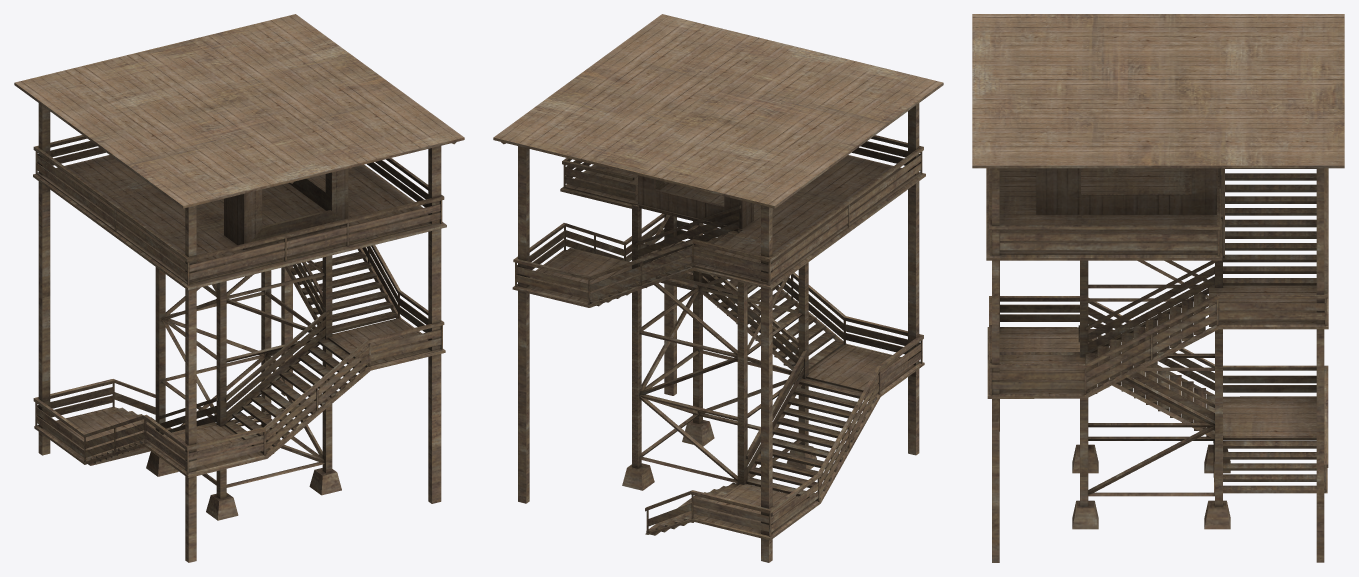
Rendered from watchtower.glb.
3 renders of one model, left to right at view 1: azimuth 30°, elevation 25°; view 2: azimuth 150°, elevation 25°; view 3: azimuth 270°, elevation 25°, orthographic. The views are drawn at different scales.
Visible parts, largest first — view 1: Watch tower; view 2: Watch tower; view 3: Watch tower.
Boxes of the visible parts, x1,y1,x2,y2 form: Watch tower: (14, 14, 464, 562); Watch tower: (493, 14, 943, 562); Watch tower: (972, 14, 1344, 562).
Bounding box in the file's own units: 10.46 × 13.04 × 10.86.
1 material, 1 textured.
